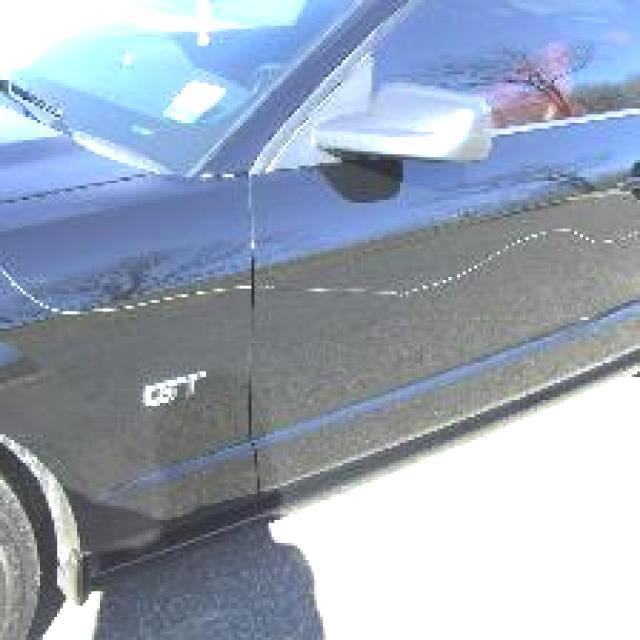minor: (0, 267, 251, 320), (439, 223, 640, 272), (256, 279, 364, 302), (382, 273, 470, 301)
